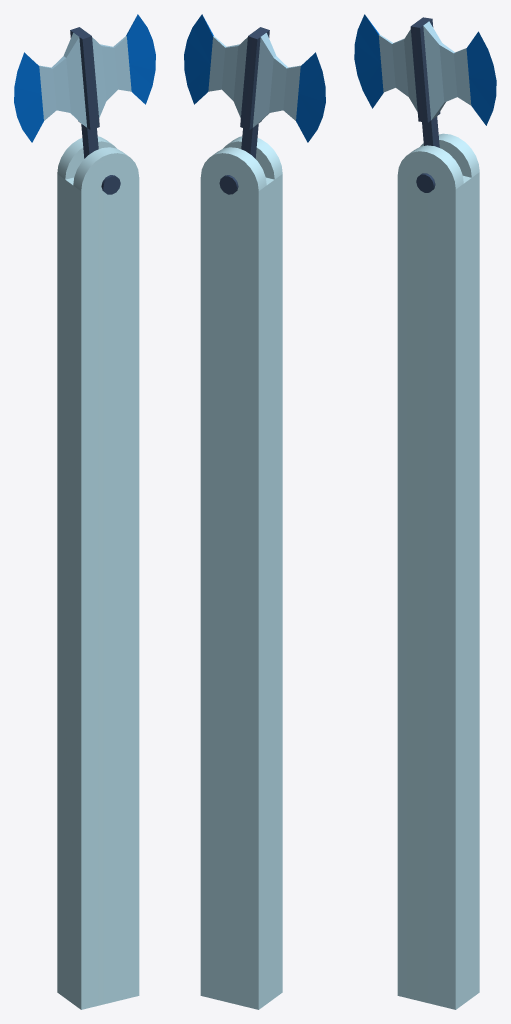
File: CM_Axe_Trap_model.fbx
3 views of the same model, side by side, from view 1: azimuth 30°, elevation 25°; view 2: azimuth 150°, elevation 25°; view 3: azimuth 330°, elevation 25° (orthographic).
Parts seen in each view (by area): view 1: CM_Axe_Trap_1_model, CM_Axe_Trap_2_model; view 2: CM_Axe_Trap_1_model, CM_Axe_Trap_2_model; view 3: CM_Axe_Trap_1_model, CM_Axe_Trap_2_model.
Part boxes in pixels (x1=…): CM_Axe_Trap_1_model: x1=57, y1=136, x2=139, y2=1009; CM_Axe_Trap_2_model: x1=14, y1=14, x2=155, y2=158; CM_Axe_Trap_1_model: x1=200, y1=136, x2=282, y2=1009; CM_Axe_Trap_2_model: x1=184, y1=14, x2=325, y2=158; CM_Axe_Trap_1_model: x1=397, y1=133, x2=479, y2=1009; CM_Axe_Trap_2_model: x1=354, y1=14, x2=496, y2=147.
Bounding box in the file's own units: 19.84 × 130 × 6.6.
